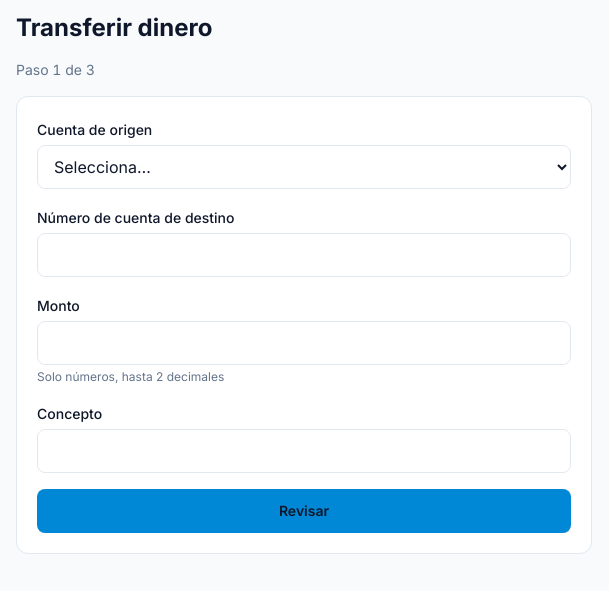
Test: Transferencias: flujo de 3 pasos › rechaza un monto mayor al saldo y un destino igual al origen
Select "••••••5678" in the dropdown labelled "Cuenta de origen" at (304, 167), box left=37, top=145, right=571, bottom=189
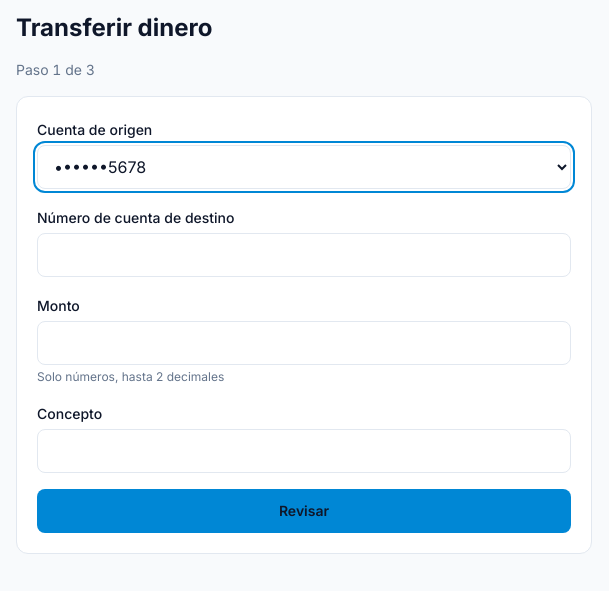
Type "0012345678" into the field labelled "Número de cuenta de destino" at (304, 255), box left=37, top=233, right=571, bottom=277
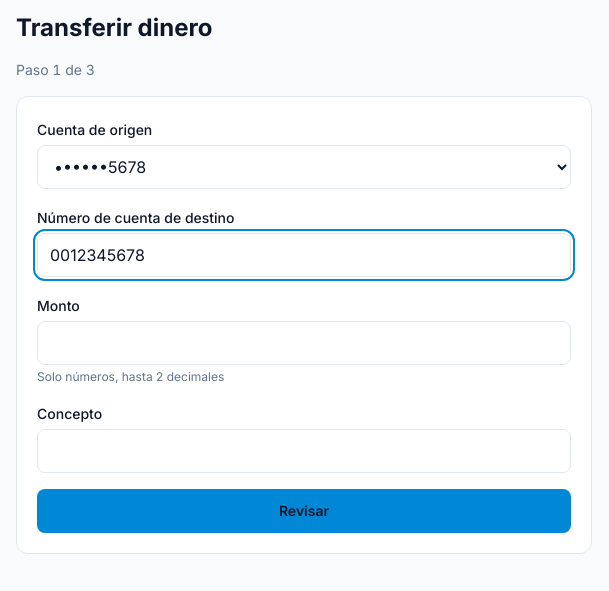
Type "99999999" into the field labelled "Monto" at (304, 343), box left=37, top=321, right=571, bottom=365
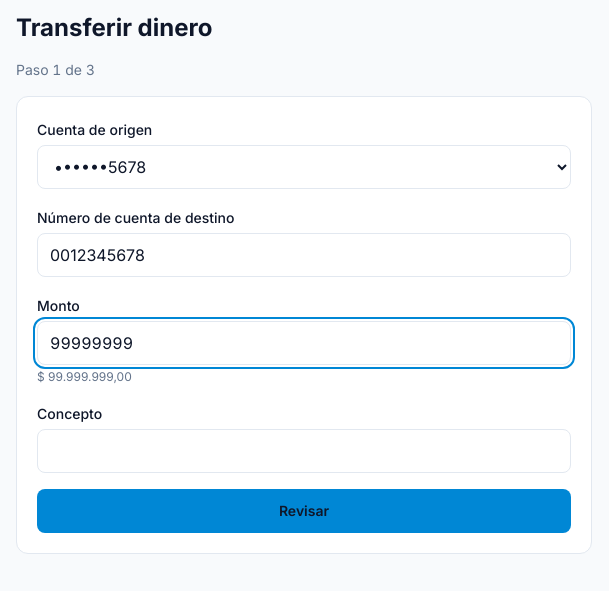
Type "Prueba" into the field labelled "Concepto" at (304, 451), box left=37, top=429, right=571, bottom=473
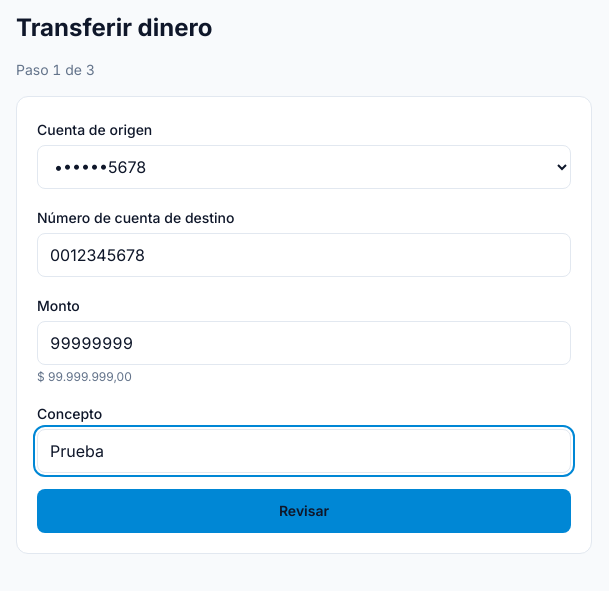
Click the button "Revisar" at (304, 511), box left=37, top=489, right=571, bottom=533
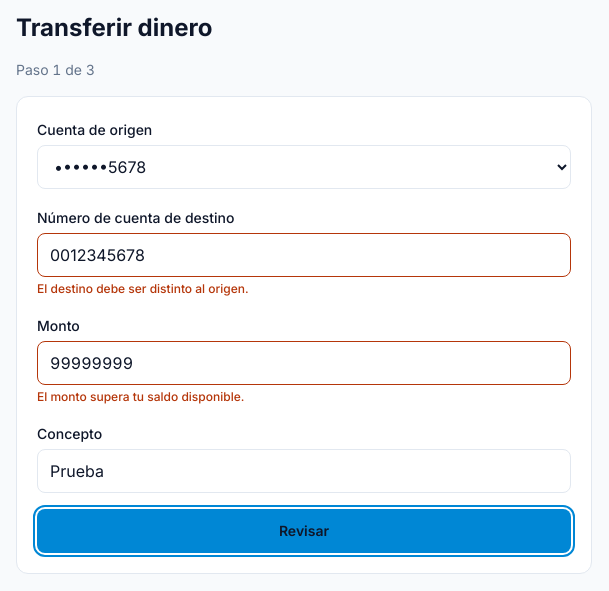
Result: the text "El monto supera tu saldo disponible." is shown at left=37, top=389, right=244, bottom=404
Result: the text "El destino debe ser distinto al origen." is shown at left=37, top=281, right=249, bottom=296
